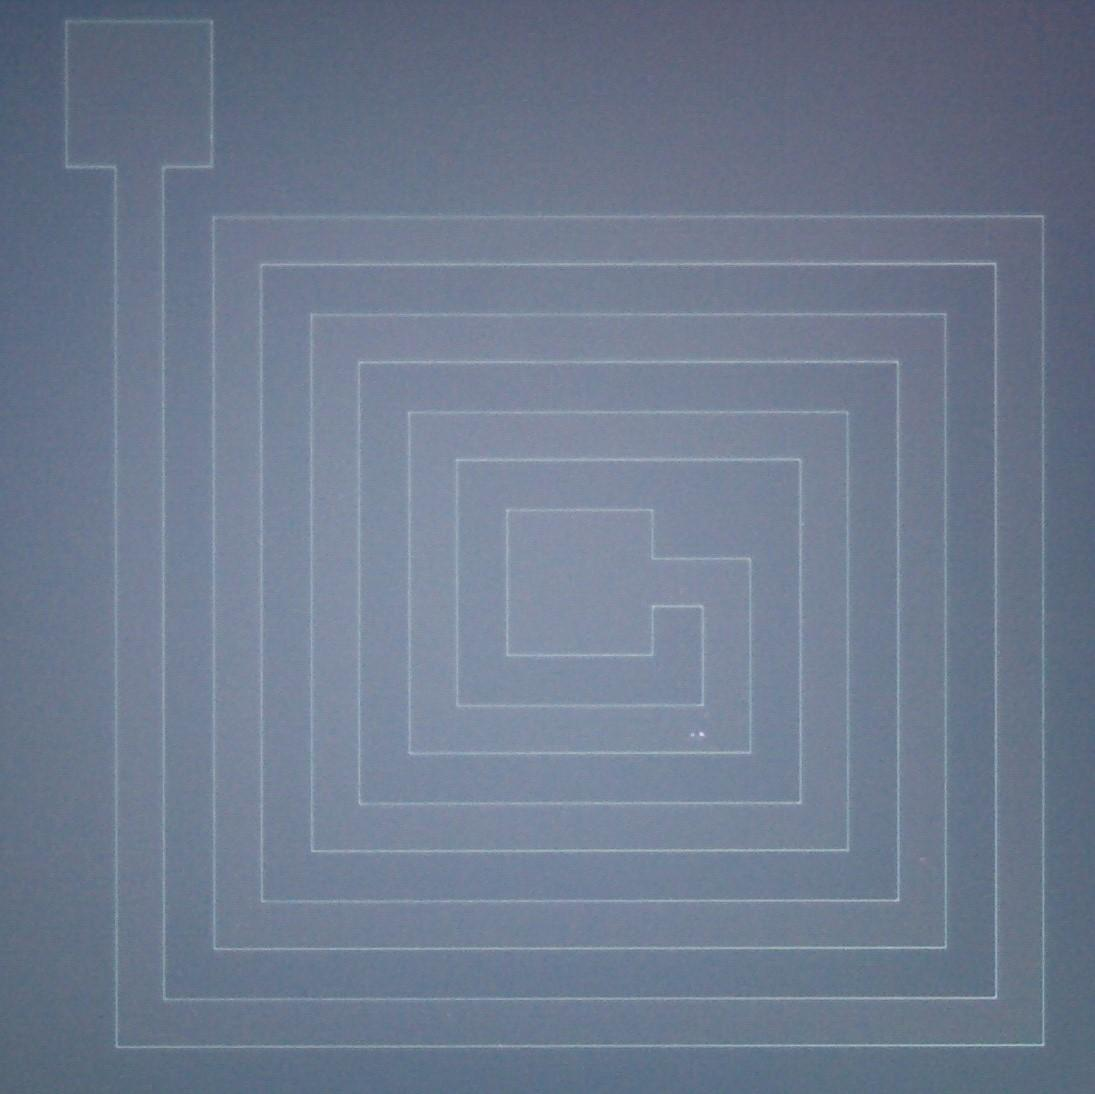s_point: (913, 849, 933, 871), (696, 726, 709, 740), (684, 729, 697, 743)
